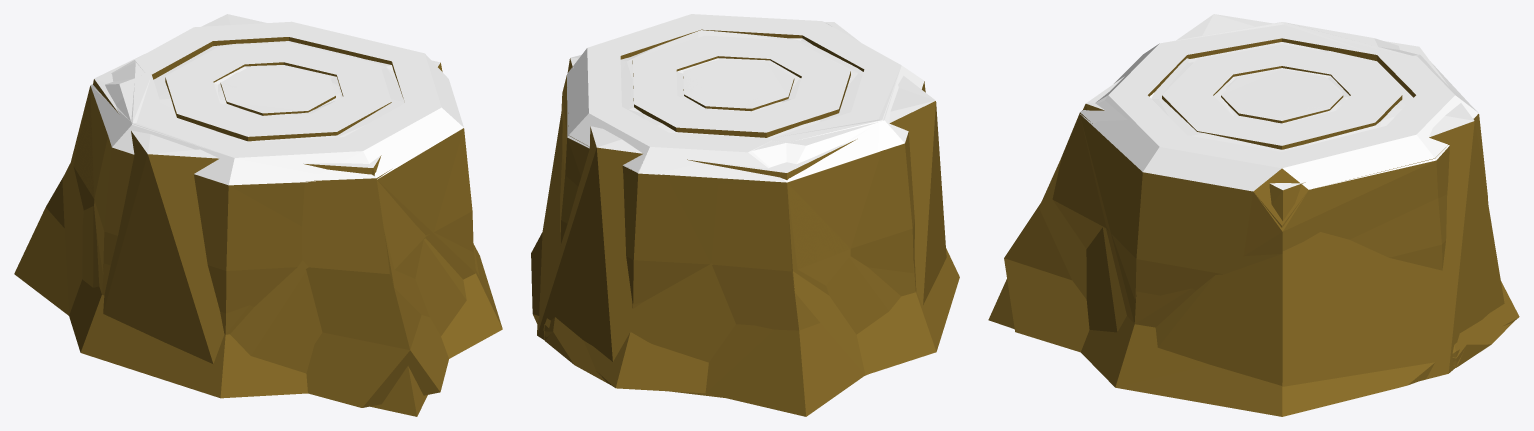
The model's file is Tree_Stump_3_Snowy.fbx.
3 renders of one model, left to right at view 1: azimuth 30°, elevation 25°; view 2: azimuth 150°, elevation 25°; view 3: azimuth 270°, elevation 25°, orthographic. The views are drawn at different scales.
Parts seen in each view (by area): view 1: Tree Stump 3_LOD0_Snowy, Tree Stump 3_LOD1_Snowy, Tree Stump 3_LOD3_Snowy, Tree Stump 3_LOD2_Snowy; view 2: Tree Stump 3_LOD0_Snowy, Tree Stump 3_LOD1_Snowy, Tree Stump 3_LOD3_Snowy, Tree Stump 3_LOD2_Snowy; view 3: Tree Stump 3_LOD0_Snowy, Tree Stump 3_LOD3_Snowy, Tree Stump 3_LOD1_Snowy, Tree Stump 3_LOD2_Snowy.
Boxes of the visible parts, x1,y1,x2,y2 form: Tree Stump 3_LOD0_Snowy: (14,21,489,407); Tree Stump 3_LOD1_Snowy: (14,22,501,407); Tree Stump 3_LOD3_Snowy: (82,14,479,416); Tree Stump 3_LOD2_Snowy: (62,41,502,398); Tree Stump 3_LOD0_Snowy: (531,14,925,416); Tree Stump 3_LOD1_Snowy: (531,14,924,416); Tree Stump 3_LOD3_Snowy: (537,22,946,397); Tree Stump 3_LOD2_Snowy: (544,31,959,393); Tree Stump 3_LOD0_Snowy: (1004,22,1513,416); Tree Stump 3_LOD3_Snowy: (988,14,1504,386); Tree Stump 3_LOD1_Snowy: (1004,22,1511,416); Tree Stump 3_LOD2_Snowy: (1063,22,1519,387).
Bounding box in the file's own units: 91.07 × 48.62 × 102.
